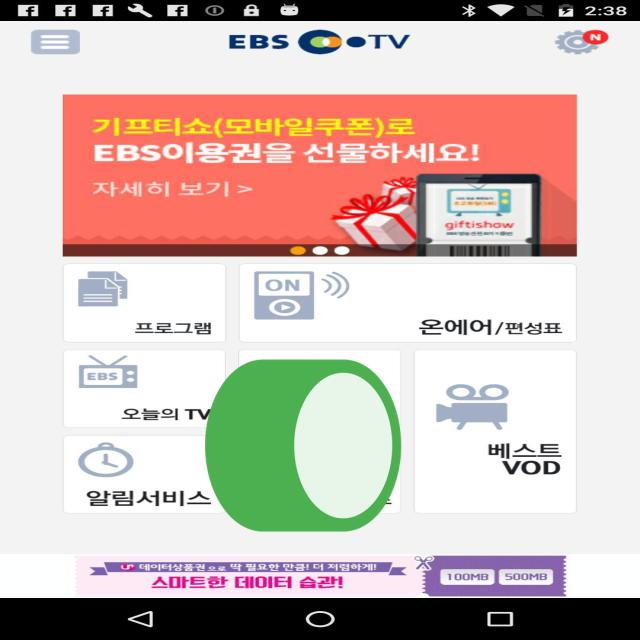social proof: (196, 293, 410, 611)
